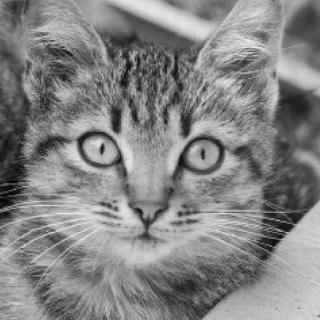cat: (22, 0, 287, 281)
nose: (126, 188, 172, 229)
